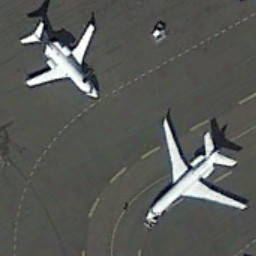Airplane: (140, 110, 254, 251), (10, 11, 111, 110)
